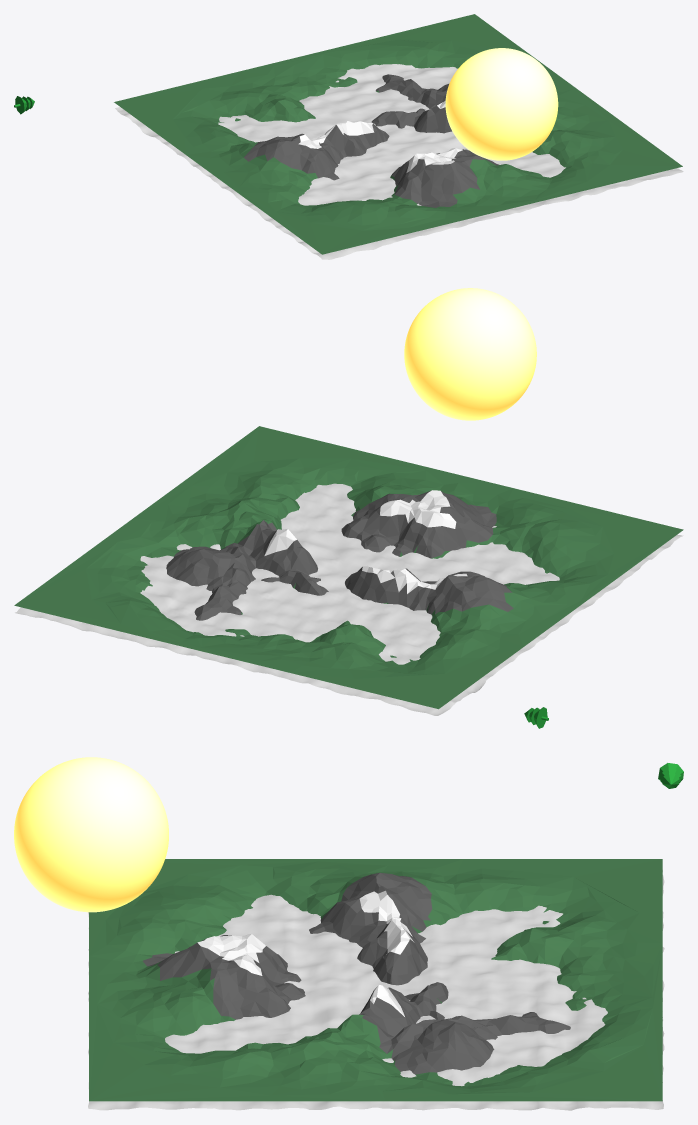
3 renders of one model, top to bottom at view 1: azimuth 30°, elevation 25°; view 2: azimuth 150°, elevation 25°; view 3: azimuth 270°, elevation 25°, orthographic. The views are drawn at different scales.
Parts seen in each view (by area): view 1: Landscape.005_1, Landscape_plane.002_2, Icosphere_4; view 2: Landscape.005_1, Landscape_plane.002_2, Icosphere_4; view 3: Landscape.005_1, Landscape_plane.002_2, Icosphere_4.
Boxes of the visible parts, bbox=[...] form: Landscape.005_1: bbox=[114, 14, 682, 254]; Landscape_plane.002_2: bbox=[115, 64, 683, 259]; Icosphere_4: bbox=[445, 48, 558, 160]; Landscape.005_1: bbox=[14, 426, 683, 709]; Landscape_plane.002_2: bbox=[15, 483, 683, 715]; Icosphere_4: bbox=[404, 288, 536, 420]; Landscape.005_1: bbox=[89, 859, 662, 1101]; Landscape_plane.002_2: bbox=[88, 870, 664, 1110]; Icosphere_4: bbox=[14, 757, 168, 912].
Bounding box in the file's own units: 75.21 × 27.57 × 69.18.
